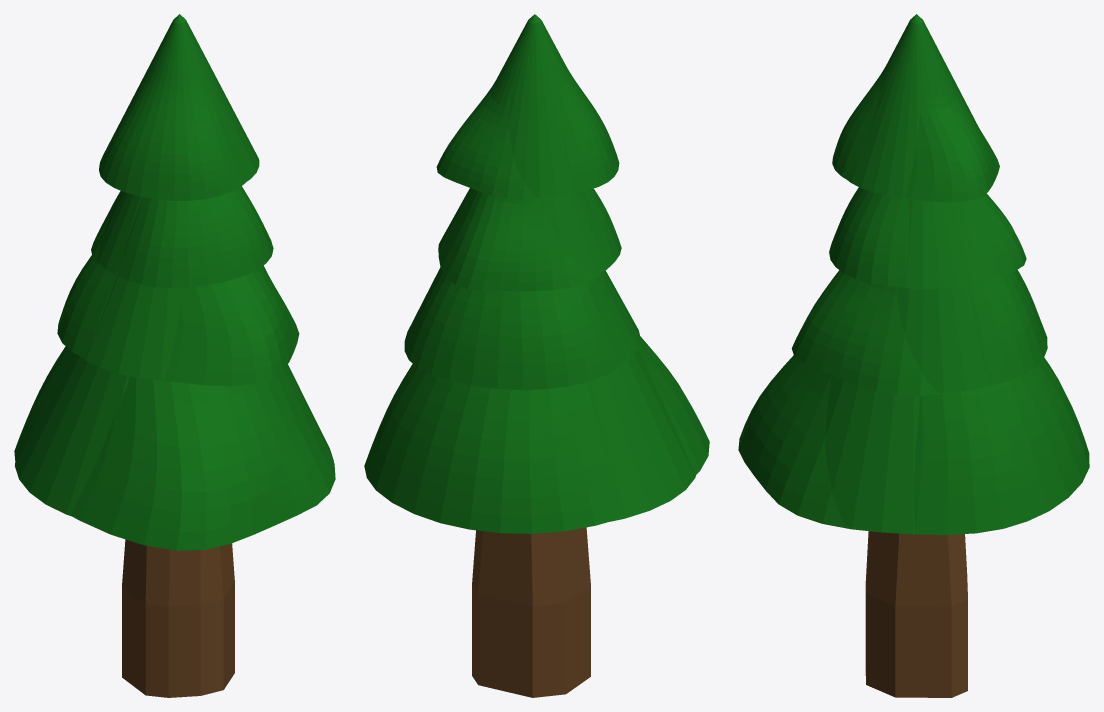
3 renders of one model, left to right at view 1: azimuth 30°, elevation 25°; view 2: azimuth 150°, elevation 25°; view 3: azimuth 270°, elevation 25°, orthographic.
Visible parts, largest first — view 1: Cylinder.004; view 2: Cylinder.004; view 3: Cylinder.004.
Part boxes in pixels (x1,y1,x2,y2): Cylinder.004: [14, 14, 335, 697]; Cylinder.004: [364, 14, 709, 697]; Cylinder.004: [738, 14, 1089, 697].
Size of the model in its own units: 1.33 by 2.98 by 1.43.
